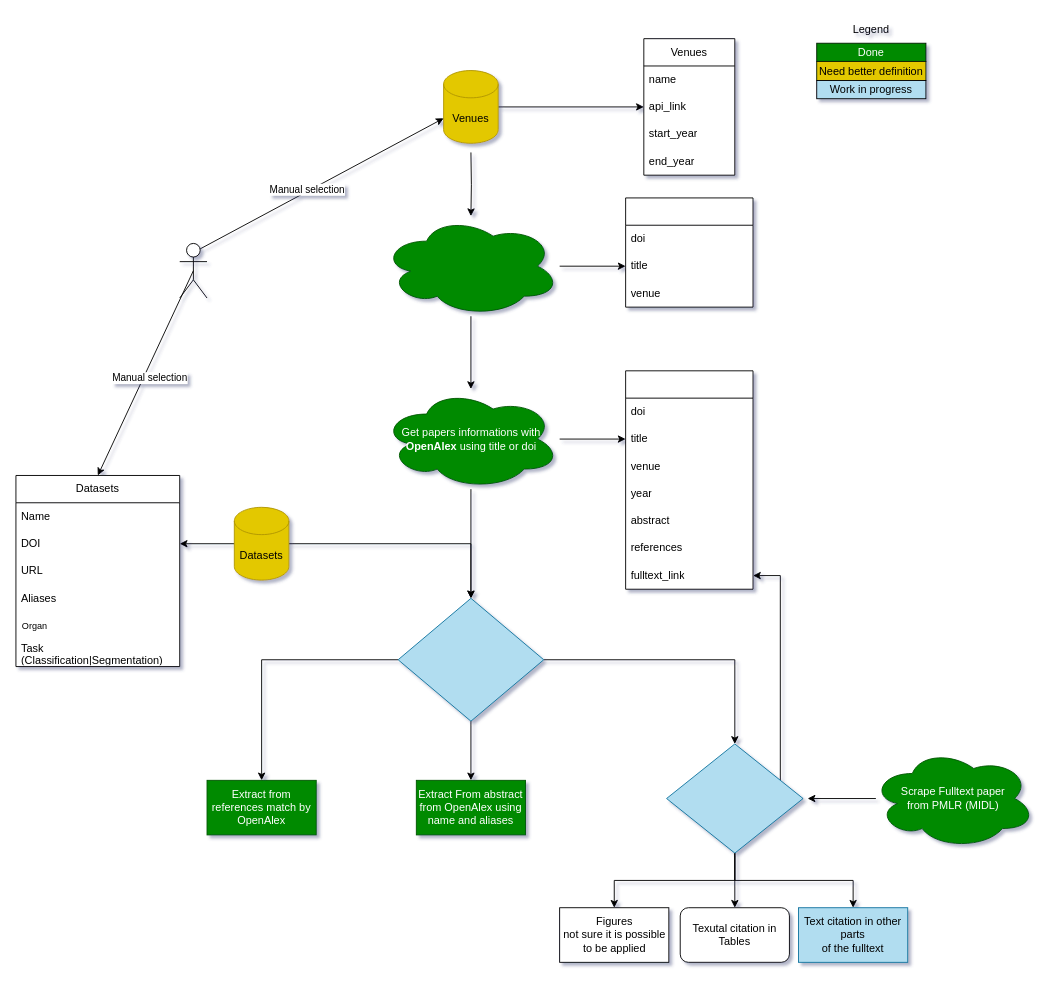
The diagram is 1057 pixels wide and 984 high, and some of its shapes have lost their labels. Each missing label, with the box of its shape:
Authors: (179, 243, 207, 298)
Extract from fulltext pdf: (666, 743, 803, 853)
Extract usage/citation at different location: (397, 597, 544, 721)
Gather list of paper for conference with dblp.org: (381, 215, 560, 316)
list of paper: (625, 197, 753, 307)
Paper info: (625, 370, 753, 589)
